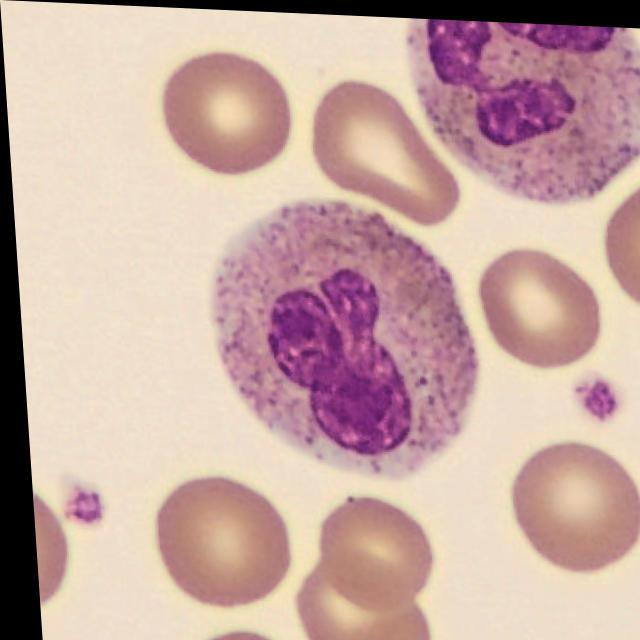Neutrofilo segmentado: (207, 198, 475, 475), (408, 14, 640, 199)
